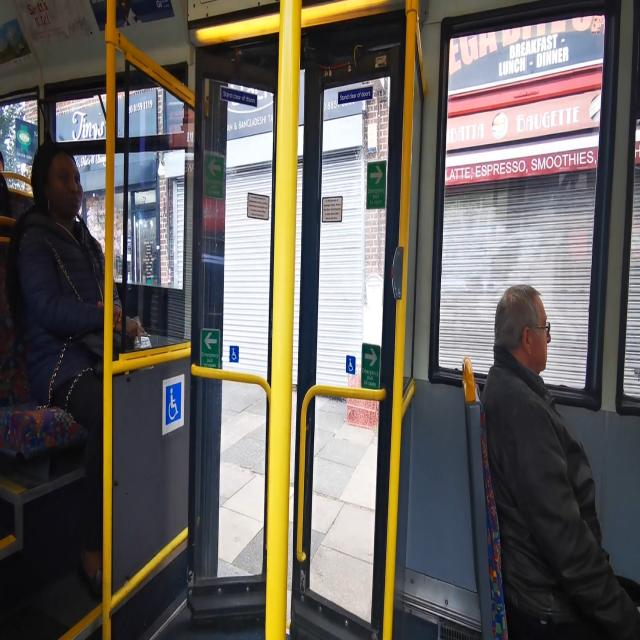bus-door: (188, 32, 402, 640)
